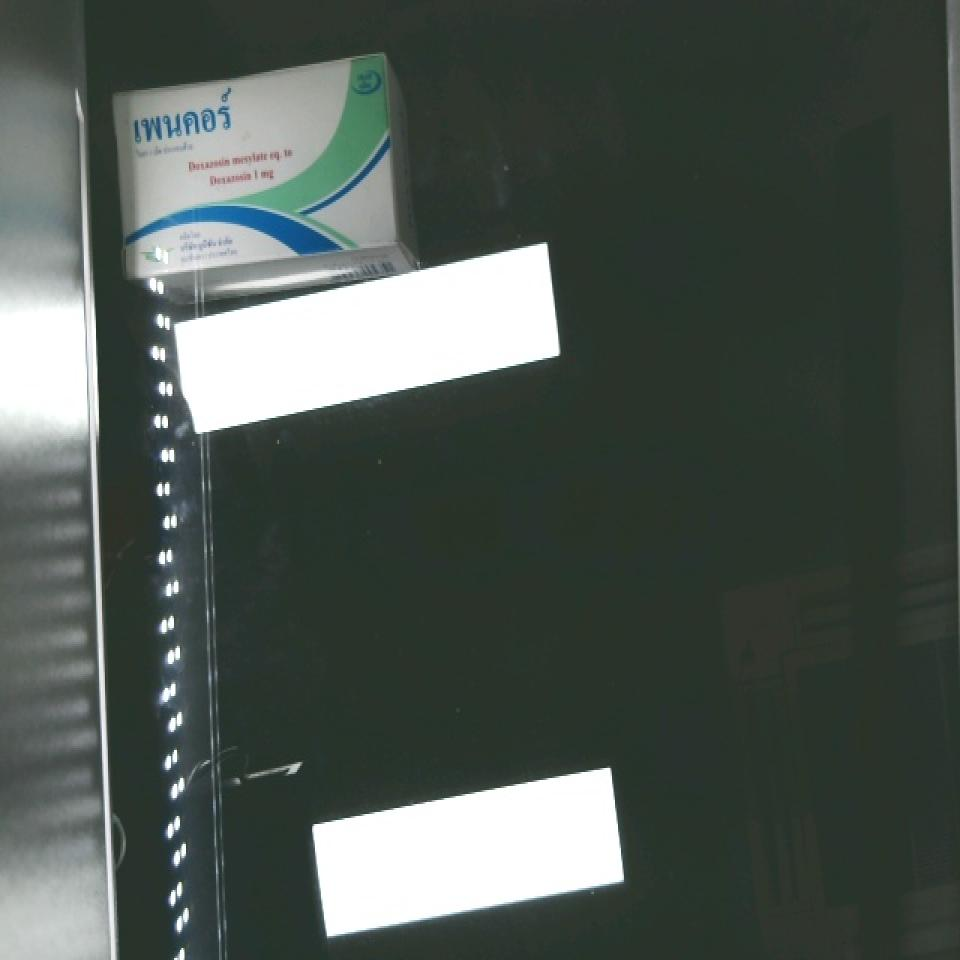medicine_box: (106, 54, 401, 274)
medicine_label_obb: (114, 77, 256, 163)
